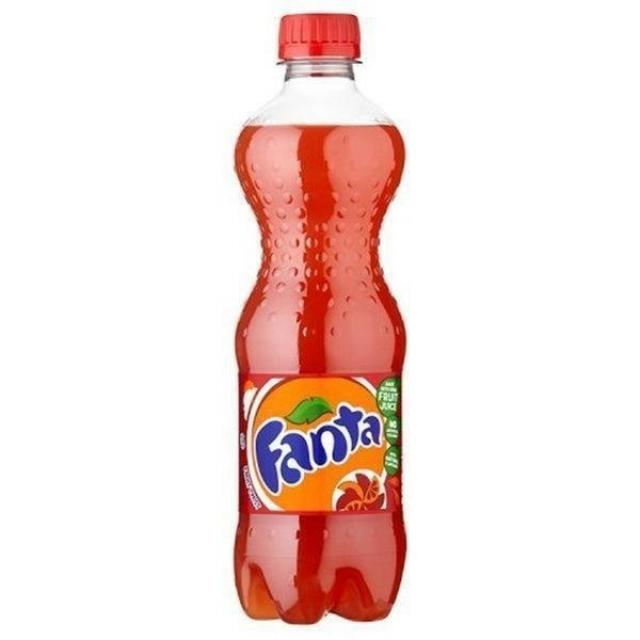bottle-plastic: (229, 0, 412, 626)
